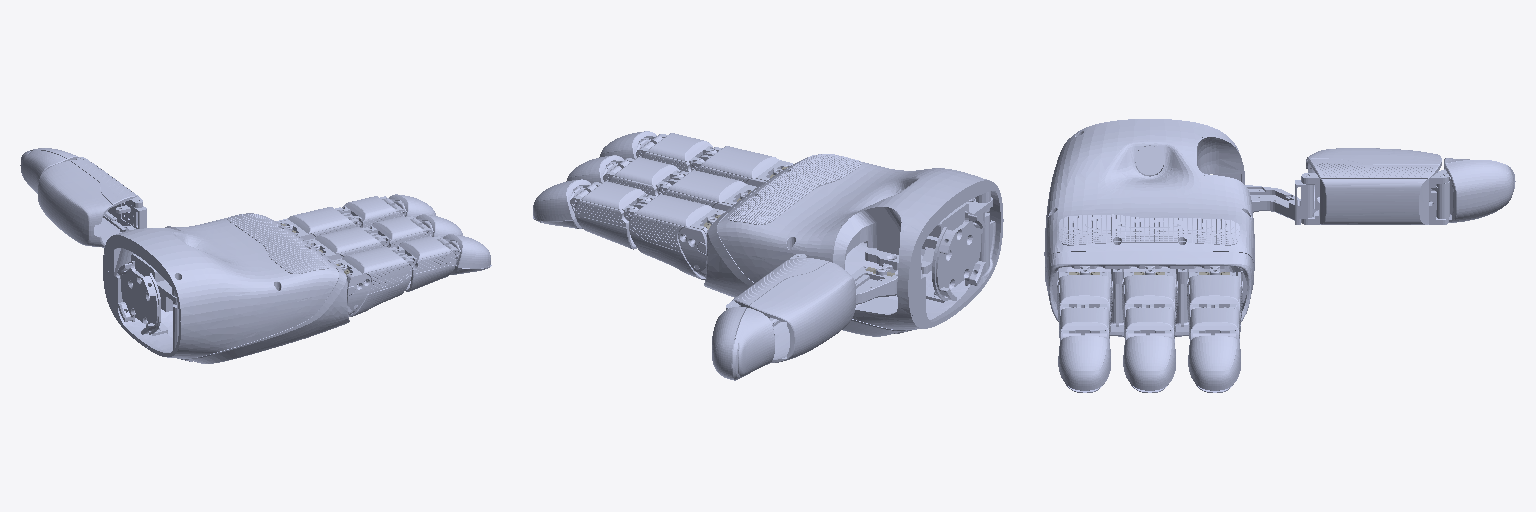
--- Render facts (derived) ---
The picture shows the robot from 3 angles, left to right: view 1: azimuth 30°, elevation 25°; view 2: azimuth 150°, elevation 25°; view 3: azimuth 270°, elevation 25°; orthographic projection.
Robot: dexh13_left — 17 links, 16 joints (16 revolute); root link left_palm; default pose: every joint at zero.
Links seen in each view (by area): view 1: left_palm, left_thumb_link_2, left_ring_link_1, left_ring_link_2, left_index_link_1, left_middle_link_1, left_ring_link_3, left_thumb_link_3, left_middle_link_2, left_index_link_2, left_middle_link_3, left_index_link_3; view 2: left_palm, left_thumb_link_2, left_index_link_1, left_thumb_link_3, left_index_link_2, left_ring_link_1, left_middle_link_1, left_index_link_3, left_ring_link_2, left_middle_link_2, left_thumb_link_1, left_middle_link_3 (+1 smaller); view 3: left_palm, left_thumb_link_2, left_thumb_link_3, left_index_link_3, left_middle_link_3, left_ring_link_3, left_middle_link_1, left_ring_link_1, left_index_link_1, left_thumb_link_1, left_index_link_2, left_ring_link_2 (+1 smaller).
Link boxes in pixels (<box>): left_palm: <box>103,213,349,363</box>; left_thumb_link_2: <box>38,157,142,247</box>; left_ring_link_1: <box>332,246,415,316</box>; left_ring_link_2: <box>393,236,459,291</box>; left_index_link_1: <box>276,207,360,239</box>; left_middle_link_1: <box>306,226,387,259</box>; left_ring_link_3: <box>438,234,491,274</box>; left_thumb_link_3: <box>20,148,82,193</box>; left_middle_link_2: <box>366,216,432,247</box>; left_index_link_2: <box>339,196,405,227</box>; left_middle_link_3: <box>411,214,462,237</box>; left_index_link_3: <box>384,194,435,217</box>; left_palm: <box>704,154,1003,336</box>; left_thumb_link_2: <box>726,254,855,362</box>; left_index_link_1: <box>625,194,725,279</box>; left_thumb_link_3: <box>712,307,774,380</box>; left_index_link_2: <box>570,181,650,249</box>; left_ring_link_1: <box>690,146,792,186</box>; left_middle_link_1: <box>657,170,756,210</box>; left_index_link_3: <box>533,179,596,228</box>; left_ring_link_2: <box>636,133,716,171</box>; left_middle_link_2: <box>603,157,683,196</box>; left_thumb_link_1: <box>851,266,897,304</box>; left_middle_link_3: <box>566,155,629,183</box>; left_palm: <box>1044,119,1254,336</box>; left_thumb_link_2: <box>1301,148,1448,224</box>; left_thumb_link_3: <box>1431,158,1515,222</box>; left_index_link_3: <box>1188,333,1240,392</box>; left_middle_link_3: <box>1123,333,1175,392</box>; left_ring_link_3: <box>1058,333,1110,392</box>; left_middle_link_1: <box>1122,272,1177,330</box>; left_ring_link_1: <box>1057,272,1112,330</box>; left_index_link_1: <box>1187,272,1242,330</box>; left_thumb_link_1: <box>1245,180,1317,224</box>; left_index_link_2: <box>1189,307,1240,342</box>; left_ring_link_2: <box>1059,307,1110,342</box>.
Size in the robot's own frame: 0.2195 by 0.2283 by 0.0723 metres.
Meshes: 17 distinct files referenced, 17 mesh visuals loaded (17 binary STL).

URDF robot description (dexh13_left):
<?xml version="1.0" encoding="utf-8"?>
<!-- This URDF was automatically created by SolidWorks to URDF Exporter! Originally created by Stephen Brawner ([email redacted]) 
     Commit Version: 1.6.0-4-g7f85cfe  Build Version: 1.6.7995.38578
     For more information, please see http://wiki.ros.org/sw_urdf_exporter -->
<robot
  name="dexh13_left">
  <link
    name="left_palm">
    <inertial>
      <origin
        xyz="0.05885 -0.0011122 -0.001097"
        rpy="0 0 0" />
      <mass
        value="0.14615" />
      <inertia
        ixx="0.00014447"
        ixy="-4.4918E-06"
        ixz="7.0438E-06"
        iyy="0.00015528"
        iyz="1.4962E-06"
        izz="0.00027727" />
    </inertial>
    <visual>
      <origin
        xyz="0 0 0"
        rpy="0 0 0" />
      <geometry>
        <mesh
          filename="package://bullet_simulation_pkg/meshes/dexh13_left/meshes/left_palm.STL" />
      </geometry>
      <material
        name="">
        <color
          rgba="0.79216 0.81961 0.93333 1" />
      </material>
    </visual>
    <collision>
      <origin
        xyz="0 0 0"
        rpy="0 0 0" />
      <geometry>
        <mesh
          filename="package://bullet_simulation_pkg/meshes/dexh13_left/meshes/left_palm.STL" />
      </geometry>
    </collision>
  </link>
  <link
    name="left_thumb_link_0">
    <inertial>
      <origin
        xyz="0.000226891814931567 4.61207322333124E-11 2.19310208440264E-05"
        rpy="0 0 0" />
      <mass
        value="0.000219582291910095" />
      <inertia
        ixx="5.09933811246146E-09"
        ixy="-2.46720800164735E-16"
        ixz="-1.09180999964771E-12"
        iyy="8.35687601155066E-10"
        iyz="-9.24475289056896E-18"
        izz="5.36669725591883E-09" />
    </inertial>
    <visual>
      <origin
        xyz="0 0 0"
        rpy="0 0 0" />
      <geometry>
        <mesh
          filename="package://bullet_simulation_pkg/meshes/dexh13_left/meshes/left_thumb_link_0.STL" />
      </geometry>
      <material
        name="">
        <color
          rgba="0.666666666666667 0.666666666666667 0.654901960784314 1" />
      </material>
    </visual>
    <collision>
      <origin
        xyz="0 0 0"
        rpy="0 0 0" />
      <geometry>
        <mesh
          filename="package://bullet_simulation_pkg/meshes/dexh13_left/meshes/left_thumb_link_0.STL" />
      </geometry>
    </collision>
  </link>
  <joint
    name="left_thumb_joint_0"
    type="revolute">
    <origin
      xyz="0.026 0.0365 -0.00025"
      rpy="0 0 1.5708" />
    <parent
      link="left_palm" />
    <child
      link="left_thumb_link_0" />
    <axis
      xyz="0 0 1" />
    <limit
      lower="-0.349"
      upper="0.349"
      effort="1"
      velocity="2" />
  </joint>
  <link
    name="left_thumb_link_1">
    <inertial>
      <origin
        xyz="0.0204656655599568 -2.0924075797046E-05 0.00676379871256106"
        rpy="0 0 0" />
      <mass
        value="0.00513633275560094" />
      <inertia
        ixx="6.05367966291247E-07"
        ixy="-2.25532129298426E-07"
        ixz="-5.21129476582283E-07"
        iyy="1.57488568485947E-06"
        iyz="-1.40400742942351E-07"
        izz="1.20413428835107E-06" />
    </inertial>
    <visual>
      <origin
        xyz="0 0 0"
        rpy="0 0 0" />
      <geometry>
        <mesh
          filename="package://bullet_simulation_pkg/meshes/dexh13_left/meshes/left_thumb_link_1.STL" />
      </geometry>
      <material
        name="">
        <color
          rgba="0.792156862745098 0.819607843137255 0.933333333333333 1" />
      </material>
    </visual>
    <collision>
      <origin
        xyz="0 0 0"
        rpy="0 0 0" />
      <geometry>
        <mesh
          filename="package://bullet_simulation_pkg/meshes/dexh13_left/meshes/left_thumb_link_1.STL" />
      </geometry>
    </collision>
  </link>
  <joint
    name="left_thumb_joint_1"
    type="revolute">
    <origin
      xyz="0 0 0"
      rpy="1.5708 0 0" />
    <parent
      link="left_thumb_link_0" />
    <child
      link="left_thumb_link_1" />
    <axis
      xyz="0 0 1" />
    <limit
      lower="0"
      upper="1.5707"
      effort="1"
      velocity="2" />
  </joint>
  <link
    name="left_thumb_link_2">
    <inertial>
      <origin
        xyz="0.0291864110249785 -0.0186272609458337 -0.000218588201030342"
        rpy="0 0 0" />
      <mass
        value="0.0167101102599617" />
      <inertia
        ixx="2.54287111913888E-06"
        ixy="8.65486625009416E-07"
        ixz="-1.60687167930168E-08"
        iyy="6.42439644397617E-06"
        iyz="5.59967790264127E-09"
        izz="6.1137414868082E-06" />
    </inertial>
    <visual>
      <origin
        xyz="0 0 0"
        rpy="0 0 0" />
      <geometry>
        <mesh
          filename="package://bullet_simulation_pkg/meshes/dexh13_left/meshes/left_thumb_link_2.STL" />
      </geometry>
      <material
        name="">
        <color
          rgba="0.792156862745098 0.819607843137255 0.933333333333333 1" />
      </material>
    </visual>
    <collision>
      <origin
        xyz="0 0 0"
        rpy="0 0 0" />
      <geometry>
        <mesh
          filename="package://bullet_simulation_pkg/meshes/dexh13_left/meshes/left_thumb_link_2.STL" />
      </geometry>
    </collision>
  </link>
  <joint
    name="left_thumb_joint_2"
    type="revolute">
    <origin
      xyz="0.039999 0.009 0.0215"
      rpy="1.5708 -0.261799388 0" />
    <parent
      link="left_thumb_link_1" />
    <child
      link="left_thumb_link_2" />
    <axis
      xyz="0 0 1" />
    <limit
      lower="0"
      upper="1.5707"
      effort="1"
      velocity="2" />
  </joint>
  <link
    name="left_thumb_link_3">
    <inertial>
      <origin
        xyz="0.00965025591910657 -0.0143115714322209 -4.71793911410497E-05"
        rpy="0 0 0" />
      <mass
        value="0.0166230921101523" />
      <inertia
        ixx="1.43778726221032E-06"
        ixy="5.47785795327608E-07"
        ixz="-8.54368130583708E-09"
        iyy="1.63145704840018E-06"
        iyz="6.14239176025217E-09"
        izz="1.46354788972157E-06" />
    </inertial>
    <visual>
      <origin
        xyz="0 0 0"
        rpy="0 0 0" />
      <geometry>
        <mesh
          filename="package://bullet_simulation_pkg/meshes/dexh13_left/meshes/left_thumb_link_3.STL" />
      </geometry>
      <material
        name="">
        <color
          rgba="0.792156862745098 0.819607843137255 0.933333333333333 1" />
      </material>
    </visual>
    <collision>
      <origin
        xyz="0 0 0"
        rpy="0 0 0" />
      <geometry>
        <mesh
          filename="package://bullet_simulation_pkg/meshes/dexh13_left/meshes/left_thumb_link_3.STL" />
      </geometry>
    </collision>
  </link>
  <joint
    name="left_thumb_joint_3"
    type="revolute">
    <origin
      xyz="0.063556 -0.017141 0"
      rpy="0 0 0" />
    <parent
      link="left_thumb_link_2" />
    <child
      link="left_thumb_link_3" />
    <axis
      xyz="0 0 1" />
    <limit
      lower="0"
      upper="1.5707"
      effort="1"
      velocity="2" />
  </joint>
  <link
    name="left_index_link_0">
    <inertial>
      <origin
        xyz="0.000226891814931574 -4.61207391722063E-11 -2.1931020844035E-05"
        rpy="0 0 0" />
      <mass
        value="0.000219582291910095" />
      <inertia
        ixx="5.09933811246146E-09"
        ixy="2.46720758199522E-16"
        ixz="1.09180999964681E-12"
        iyy="8.35687601155067E-10"
        iyz="-9.24476916233652E-18"
        izz="5.36669725591883E-09" />
    </inertial>
    <visual>
      <origin
        xyz="0 0 0"
        rpy="0 0 0" />
      <geometry>
        <mesh
          filename="package://bullet_simulation_pkg/meshes/dexh13_left/meshes/left_index_link_0.STL" />
      </geometry>
      <material
        name="">
        <color
          rgba="0.666666666666667 0.666666666666667 0.654901960784314 1" />
      </material>
    </visual>
    <collision>
      <origin
        xyz="0 0 0"
        rpy="0 0 0" />
      <geometry>
        <mesh
          filename="package://bullet_simulation_pkg/meshes/dexh13_left/meshes/left_index_link_0.STL" />
      </geometry>
    </collision>
  </link>
  <joint
    name="left_index_joint_0"
    type="revolute">
    <origin
      xyz="0.122 0.0315 0.00175"
      rpy="0 0 0" />
    <parent
      link="left_palm" />
    <child
      link="left_index_link_0" />
    <axis
      xyz="0 0 1" />
    <limit
      lower="-0.349"
      upper="0.349"
      effort="1"
      velocity="2" />
  </joint>
  <link
    name="left_index_link_1">
    <inertial>
      <origin
        xyz="0.0134968488801579 -0.0082164926480711 -0.00012423070599462"
        rpy="0 0 0" />
      <mass
        value="0.0112425437662123" />
      <inertia
        ixx="8.24510934717321E-07"
        ixy="-1.61500825786472E-07"
        ixz="-6.77095684922023E-09"
        iyy="1.58702292208414E-06"
        iyz="-1.30201094756871E-09"
        izz="1.28198165897553E-06" />
    </inertial>
    <visual>
      <origin
        xyz="0 0 0"
        rpy="0 0 0" />
      <geometry>
        <mesh
          filename="package://bullet_simulation_pkg/meshes/dexh13_left/meshes/left_index_link_1.STL" />
      </geometry>
      <material
        name="">
        <color
          rgba="0.792156862745098 0.819607843137255 0.933333333333333 1" />
      </material>
    </visual>
    <collision>
      <origin
        xyz="0 0 0"
        rpy="0 0 0" />
      <geometry>
        <mesh
          filename="package://bullet_simulation_pkg/meshes/dexh13_left/meshes/left_index_link_1.STL" />
      </geometry>
    </collision>
  </link>
  <joint
    name="left_index_joint_1"
    type="revolute">
    <origin
      xyz="0 0 0"
      rpy="1.5708 0 0" />
    <parent
      link="left_index_link_0" />
    <child
      link="left_index_link_1" />
    <axis
      xyz="0 0 1" />
    <limit
      lower="0"
      upper="1.5707"
      effort="1"
      velocity="2" />
  </joint>
  <link
    name="left_index_link_2">
    <inertial>
      <origin
        xyz="0.0137857073448055 -0.00378219545864698 -4.81393113569845E-05"
        rpy="0 0 0" />
      <mass
        value="0.00609408297717352" />
      <inertia
        ixx="4.0522265275195E-07"
        ixy="-2.63296727229235E-08"
        ixz="-6.22058929331475E-09"
        iyy="6.69894710350223E-07"
        iyz="1.14007707609166E-10"
        izz="4.50586208179035E-07" />
    </inertial>
    <visual>
      <origin
        xyz="0 0 0"
        rpy="0 0 0" />
      <geometry>
        <mesh
          filename="package://bullet_simulation_pkg/meshes/dexh13_left/meshes/left_index_link_2.STL" />
      </geometry>
      <material
        name="">
        <color
          rgba="0.792156862745098 0.819607843137255 0.933333333333333 1" />
      </material>
    </visual>
    <collision>
      <origin
        xyz="0 0 0"
        rpy="0 0 0" />
      <geometry>
        <mesh
          filename="package://bullet_simulation_pkg/meshes/dexh13_left/meshes/left_index_link_2.STL" />
      </geometry>
    </collision>
  </link>
  <joint
    name="left_index_joint_2"
    type="revolute">
    <origin
      xyz="0.04 0 0"
      rpy="0 0 0" />
    <parent
      link="left_index_link_1" />
    <child
      link="left_index_link_2" />
    <axis
      xyz="0 0 1" />
    <limit
      lower="0"
      upper="1.5707"
      effort="1"
      velocity="2" />
  </joint>
  <link
    name="left_index_link_3">
    <inertial>
      <origin
        xyz="0.010653045513104 -0.00782289409568123 8.38676496021512E-05"
        rpy="0 0 0" />
      <mass
        value="0.00843580676681889" />
      <inertia
        ixx="4.20952824850423E-07"
        ixy="1.30934399182204E-07"
        ixz="6.1360002367218E-10"
        iyy="6.48349538589606E-07"
        iyz="1.48834792878924E-09"
        izz="4.83378727303359E-07" />
    </inertial>
    <visual>
      <origin
        xyz="0 0 0"
        rpy="0 0 0" />
      <geometry>
        <mesh
          filename="package://bullet_simulation_pkg/meshes/dexh13_left/meshes/left_index_link_3.STL" />
      </geometry>
      <material
        name="">
        <color
          rgba="0.792156862745098 0.819607843137255 0.933333333333333 1" />
      </material>
    </visual>
    <collision>
      <origin
        xyz="0 0 0"
        rpy="0 0 0" />
      <geometry>
        <mesh
          filename="package://bullet_simulation_pkg/meshes/dexh13_left/meshes/left_index_link_3.STL" />
      </geometry>
    </collision>
  </link>
  <joint
    name="left_index_joint_3"
    type="revolute">
    <origin
      xyz="0.03 0 0"
      rpy="0 0 0" />
    <parent
      link="left_index_link_2" />
    <child
      link="left_index_link_3" />
    <axis
      xyz="0 0 1" />
    <limit
      lower="0"
      upper="1.5707"
      effort="1"
      velocity="2" />
  </joint>
  <link
    name="left_middle_link_0">
    <inertial>
      <origin
        xyz="0.00022689181493158 -4.61207379914558E-11 -2.19310208440307E-05"
        rpy="0 0 0" />
      <mass
        value="0.000219582291910095" />
      <inertia
        ixx="5.09933811246146E-09"
        ixy="2.46720758435753E-16"
        ixz="1.09180999964668E-12"
        iyy="8.35687601155067E-10"
        iyz="-9.24476779323469E-18"
        izz="5.36669725591883E-09" />
    </inertial>
    <visual>
      <origin
        xyz="0 0 0"
        rpy="0 0 0" />
      <geometry>
        <mesh
          filename="package://bullet_simulation_pkg/meshes/dexh13_left/meshes/left_middle_link_0.STL" />
      </geometry>
      <material
        name="">
        <color
          rgba="0.666666666666667 0.666666666666667 0.654901960784314 1" />
      </material>
    </visual>
    <collision>
      <origin
        xyz="0 0 0"
        rpy="0 0 0" />
      <geometry>
        <mesh
          filename="package://bullet_simulation_pkg/meshes/dexh13_left/meshes/left_middle_link_0.STL" />
      </geometry>
    </collision>
  </link>
  <joint
    name="left_middle_joint_0"
    type="revolute">
    <origin
      xyz="0.122 0 0.00175"
      rpy="0 0 0" />
    <parent
      link="left_palm" />
    <child
      link="left_middle_link_0" />
    <axis
      xyz="0 0 1" />
    <limit
      lower="-0.349"
      upper="0.349"
      effort="1"
      velocity="2" />
  </joint>
  <link
    name="left_middle_link_1">
    <inertial>
      <origin
        xyz="0.0134968503616547 -0.00821648268860979 -0.000124226906605018"
        rpy="0 0 0" />
      <mass
        value="0.0112425344934482" />
      <inertia
        ixx="8.24510254406344E-07"
        ixy="-1.61500380674306E-07"
        ixz="-6.77055456985443E-09"
        iyy="1.58702188556853E-06"
        iyz="-1.30175978106446E-09"
        izz="1.28198069231613E-06" />
    </inertial>
    <visual>
      <origin
        xyz="0 0 0"
        rpy="0 0 0" />
      <geometry>
        <mesh
          filename="package://bullet_simulation_pkg/meshes/dexh13_left/meshes/left_middle_link_1.STL" />
      </geometry>
      <material
        name="">
        <color
          rgba="0.792156862745098 0.819607843137255 0.933333333333333 1" />
      </material>
    </visual>
    <collision>
      <origin
        xyz="0 0 0"
        rpy="0 0 0" />
      <geometry>
        <mesh
          filename="package://bullet_simulation_pkg/meshes/dexh13_left/meshes/left_middle_link_1.STL" />
      </geometry>
    </collision>
  </link>
  <joint
    name="left_middle_joint_1"
    type="revolute">
    <origin
      xyz="0 0 0"
      rpy="1.5708 0 0" />
    <parent
      link="left_middle_link_0" />
    <child
      link="left_middle_link_1" />
    <axis
      xyz="0 0 1" />
    <limit
      lower="0"
      upper="1.5707"
      effort="1"
      velocity="2" />
  </joint>
  <link
    name="left_middle_link_2">
    <inertial>
      <origin
        xyz="0.0137857073448054 -0.00378219545864696 -4.81393113570762E-05"
        rpy="0 0 0" />
      <mass
        value="0.00609408297717341" />
      <inertia
        ixx="4.05222652751945E-07"
        ixy="-2.63296727229229E-08"
        ixz="-6.22058929331833E-09"
        iyy="6.69894710350213E-07"
        iyz="1.14007707609885E-10"
        izz="4.50586208179029E-07" />
    </inertial>
    <visual>
      <origin
        xyz="0 0 0"
        rpy="0 0 0" />
      <geometry>
        <mesh
          filename="package://bullet_simulation_pkg/meshes/dexh13_left/meshes/left_middle_link_2.STL" />
      </geometry>
      <material
        name="">
        <color
          rgba="0.792156862745098 0.819607843137255 0.933333333333333 1" />
      </material>
    </visual>
    <collision>
      <origin
        xyz="0 0 0"
        rpy="0 0 0" />
      <geometry>
        <mesh
          filename="package://bullet_simulation_pkg/meshes/dexh13_left/meshes/left_middle_link_2.STL" />
      </geometry>
    </collision>
  </link>
  <joint
    name="left_middle_joint_2"
    type="revolute">
    <origin
      xyz="0.04 0 0"
      rpy="0 0 0" />
    <parent
      link="left_middle_link_1" />
    <child
      link="left_middle_link_2" />
    <axis
      xyz="0 0 1" />
    <limit
      lower="0"
      upper="1.5707"
      effort="1"
      velocity="2" />
  </joint>
  <link
    name="left_middle_link_3">
    <inertial>
      <origin
        xyz="0.0106530455395141 -0.00782289361780017 8.38667763953919E-05"
        rpy="0 0 0" />
      <mass
        value="0.00843580796640825" />
      <inertia
        ixx="4.20952878431164E-07"
        ixy="1.30934404789214E-07"
        ixz="6.13593472974387E-10"
        iyy="6.48349595003246E-07"
        iyz="1.48836393773238E-09"
        izz="4.83378743243124E-07" />
    </inertial>
    <visual>
      <origin
        xyz="0 0 0"
        rpy="0 0 0" />
      <geometry>
        <mesh
          filename="package://bullet_simulation_pkg/meshes/dexh13_left/meshes/left_middle_link_3.STL" />
      </geometry>
      <material
        name="">
        <color
          rgba="0.792156862745098 0.819607843137255 0.933333333333333 1" />
      </material>
    </visual>
    <collision>
      <origin
        xyz="0 0 0"
        rpy="0 0 0" />
      <geometry>
        <mesh
          filename="package://bullet_simulation_pkg/meshes/dexh13_left/meshes/left_middle_link_3.STL" />
      </geometry>
    </collision>
  </link>
  <joint
    name="left_middle_joint_3"
    type="revolute">
    <origin
      xyz="0.03 0 0"
      rpy="0 0 0" />
    <parent
      link="left_middle_link_2" />
    <child
      link="left_middle_link_3" />
    <axis
      xyz="0 0 1" />
    <limit
      lower="0"
      upper="1.5707"
      effort="1"
      velocity="2" />
  </joint>
  <link
    name="left_ring_link_0">
    <inertial>
      <origin
        xyz="0.000226891814931574 -4.61207461111002E-11 -2.19310208440285E-05"
        rpy="0 0 0" />
      <mass
        value="0.000219582291910096" />
      <inertia
        ixx="5.09933811246146E-09"
        ixy="2.46720758889799E-16"
        ixz="1.09180999964651E-12"
        iyy="8.35687601155069E-10"
        iyz="-9.24476780390125E-18"
        izz="5.36669725591883E-09" />
    </inertial>
    <visual>
      <origin
        xyz="0 0 0"
        rpy="0 0 0" />
      <geometry>
        <mesh
          filename="package://bullet_simulation_pkg/meshes/dexh13_left/meshes/left_ring_link_0.STL" />
      </geometry>
      <material
        name="">
        <color
          rgba="0.666666666666667 0.666666666666667 0.654901960784314 1" />
      </material>
    </visual>
    <collision>
      <origin
        xyz="0 0 0"
        rpy="0 0 0" />
      <geometry>
        <mesh
          filename="package://bullet_simulation_pkg/meshes/dexh13_left/meshes/left_ring_link_0.STL" />
      </geometry>
    </collision>
  </link>
  <joint
    name="left_ring_joint_0"
    type="revolute">
    <origin
      xyz="0.122 -0.0315 0.00175"
      rpy="0 0 0" />
    <parent
      link="left_palm" />
    <child
      link="left_ring_link_0" />
    <axis
      xyz="0 0 1" />
    <limit
      lower="-0.349"
      upper="0.349"
      effort="1"
      velocity="2" />
  </joint>
  <link
    name="left_ring_link_1">
    <inertial>
      <origin
        xyz="0.0134968488664202 -0.00821649152910973 -0.000124231330444868"
        rpy="0 0 0" />
      <mass
        value="0.0112425427188638" />
      <inertia
        ixx="8.24510845961029E-07"
        ixy="-1.6150078185395E-07"
        ixz="-6.77100269676269E-09"
        iyy="1.58702282394546E-06"
        iyz="-1.30205429036479E-09"
        izz="1.28198156880371E-06" />
    </inertial>
    <visual>
      <origin
        xyz="0 0 0"
        rpy="0 0 0" />
      <geometry>
        <mesh
          filename="package://bullet_simulation_pkg/meshes/dexh13_left/meshes/left_ring_link_1.STL" />
      </geometry>
      <material
        name="">
        <color
          rgba="0.792156862745098 0.819607843137255 0.933333333333333 1" />
      </material>
    </visual>
    <collision>
      <origin
        xyz="0 0 0"
        rpy="0 0 0" />
      <geometry>
        <mesh
          filename="package://bullet_simulation_pkg/meshes/dexh13_left/meshes/left_ring_link_1.STL" />
      </geometry>
    </collision>
  </link>
  <joint
    name="left_ring_joint_1"
    type="revolute">
    <origin
      xyz="0 0 0"
      rpy="1.5708 0 0" />
    <parent
      link="left_ring_link_0" />
    <child
      link="left_ring_link_1" />
    <axis
      xyz="0 0 1" />
    <limit
      lower="0"
      upper="1.5707"
      effort="1"
      velocity="2" />
  </joint>
  <link
    name="left_ring_link_2">
    <inertial>
      <origin
        xyz="0.0137857073448057 -0.00378219545864726 -4.81393113574632E-05"
        rpy="0 0 0" />
      <mass
        value="0.00609408297717322" />
      <inertia
        ixx="4.05222652751932E-07"
        ixy="-2.63296727229261E-08"
        ixz="-6.22058929333323E-09"
        iyy="6.6989471035019E-07"
        iyz="1.14007707611113E-10"
        izz="4.50586208179018E-07" />
    </inertial>
    <visual>
      <origin
        xyz="0 0 0"
        rpy="0 0 0" />
      <geometry>
        <mesh
          filename="package://bullet_simulation_pkg/meshes/dexh13_left/meshes/left_ring_link_2.STL" />
      </geometry>
      <material
        name="">
        <color
          rgba="0.792156862745098 0.819607843137255 0.933333333333333 1" />
      </material>
    </visual>
    <collision>
      <origin
        xyz="0 0 0"
        rpy="0 0 0" />
      <geometry>
        <mesh
          filename="package://bullet_simulation_pkg/meshes/dexh13_left/meshes/left_ring_link_2.STL" />
      </geometry>
    </collision>
  </link>
  <joint
    name="left_ring_joint_2"
    type="revolute">
    <origin
      xyz="0.04 0 0"
      rpy="0 0 0" />
    <parent
      link="left_ring_link_1" />
    <child
      link="left_ring_link_2" />
    <axis
      xyz="0 0 1" />
    <limit
      lower="0"
      upper="1.5707"
      effort="1"
      velocity="2" />
  </joint>
  <link
    name="left_ring_link_3">
    <inertial>
      <origin
        xyz="0.010653 -0.0078229 8.3868E-05"
        rpy="0 0 0" />
      <mass
        value="0.0084358" />
      <inertia
        ixx="4.2095E-07"
        ixy="1.3093E-07"
        ixz="6.136E-10"
        iyy="6.4835E-07"
        iyz="1.4883E-09"
        izz="4.8338E-07" />
    </inertial>
    <visual>
      <origin
        xyz="0 0 0"
        rpy="0 0 0" />
      <geometry>
        <mesh
          filename="package://bullet_simulation_pkg/meshes/dexh13_left/meshes/left_ring_link_3.STL" />
      </geometry>
      <material
        name="">
        <color
          rgba="0.79216 0.81961 0.93333 1" />
      </material>
    </visual>
    <collision>
      <origin
        xyz="0 0 0"
        rpy="0 0 0" />
      <geometry>
        <mesh
          filename="package://bullet_simulation_pkg/meshes/dexh13_left/meshes/left_ring_link_3.STL" />
      </geometry>
    </collision>
  </link>
  <joint
    name="left_ring_joint_3"
    type="revolute">
    <origin
      xyz="0.03 0 0"
      rpy="0 0 0" />
    <parent
      link="left_ring_link_2" />
    <child
      link="left_ring_link_3" />
    <axis
      xyz="0 0 1" />
    <limit
      lower="0"
      upper="1.5707"
      effort="1"
      velocity="2" />
  </joint>
</robot>
